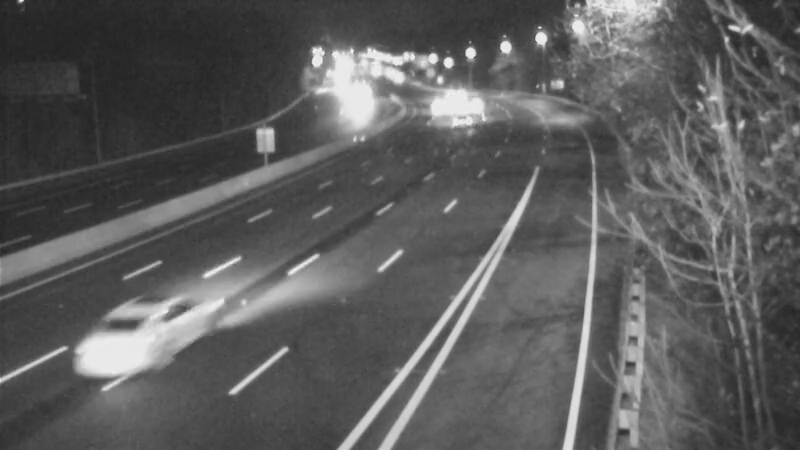vehicle: (65, 286, 175, 396), (430, 68, 480, 118), (414, 81, 464, 131), (447, 81, 497, 131), (440, 99, 490, 149), (326, 81, 376, 131)
